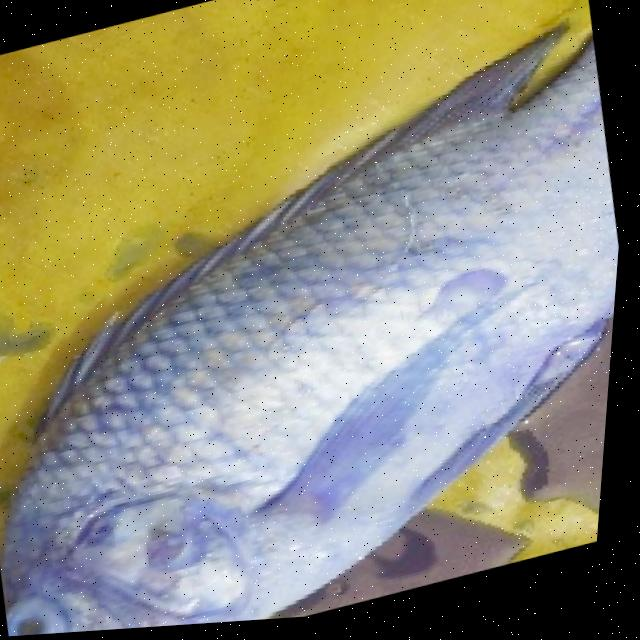Non-Fresh: (0, 88, 612, 640)
